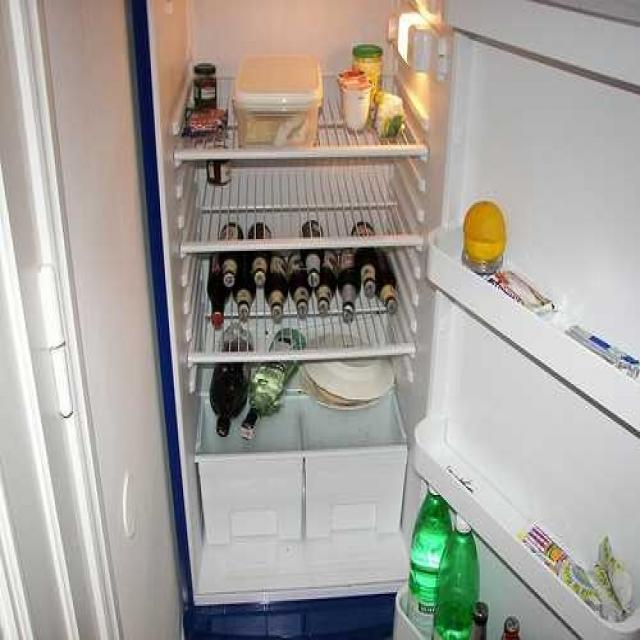refrigerator: (148, 2, 474, 595)
